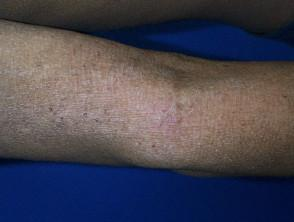Eczema: (152, 106, 191, 127), (130, 102, 149, 128), (65, 41, 88, 62), (151, 92, 177, 109), (73, 75, 98, 91), (46, 105, 67, 123), (151, 139, 169, 157), (103, 81, 126, 95), (276, 93, 293, 107), (223, 64, 239, 78), (80, 107, 95, 120), (103, 104, 118, 117), (94, 38, 106, 54)
